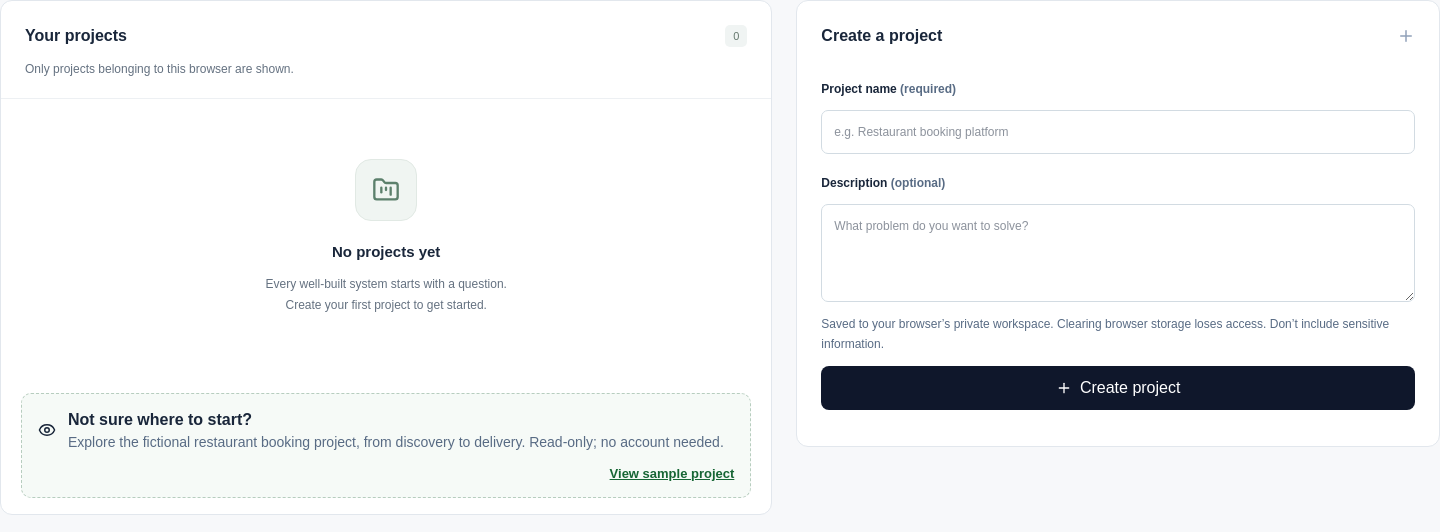
Test: projects › shows an empty workspace and creates a browser-owned project
Expected: the heading "No projects yet" is shown, [332,243,440,260]
Step 1. Type "Booking platform" into the field labelled "Project name (required)" → (1118,132), box [821,110,1415,154]
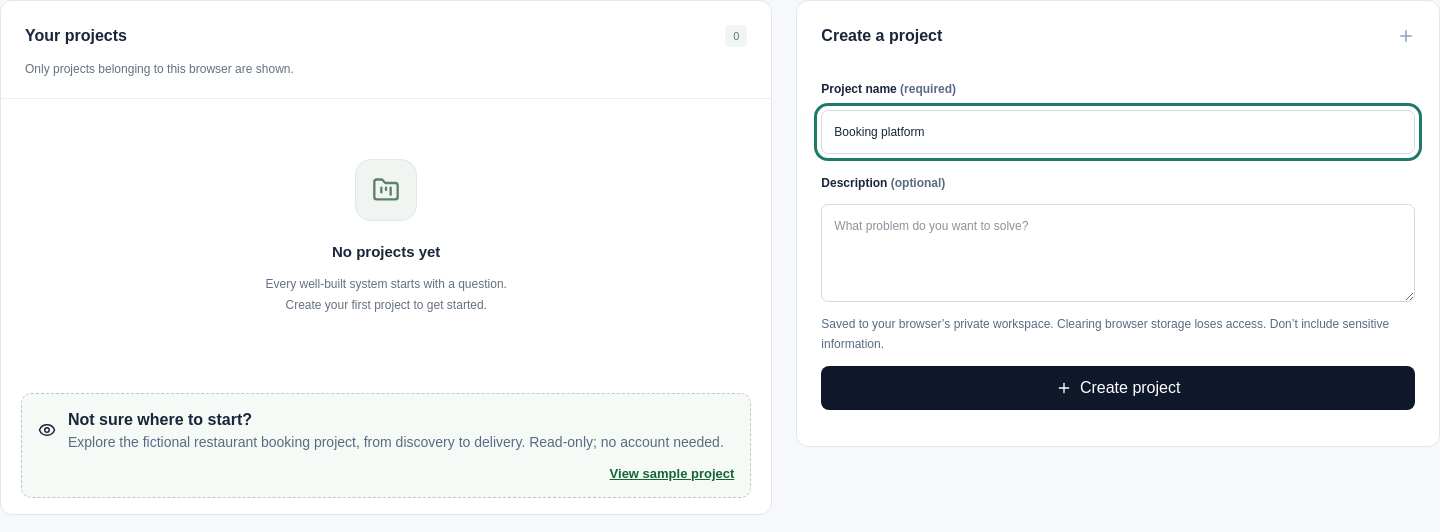
Step 2. Click the button "Create project" → (1118,388), box [821,366,1415,410]
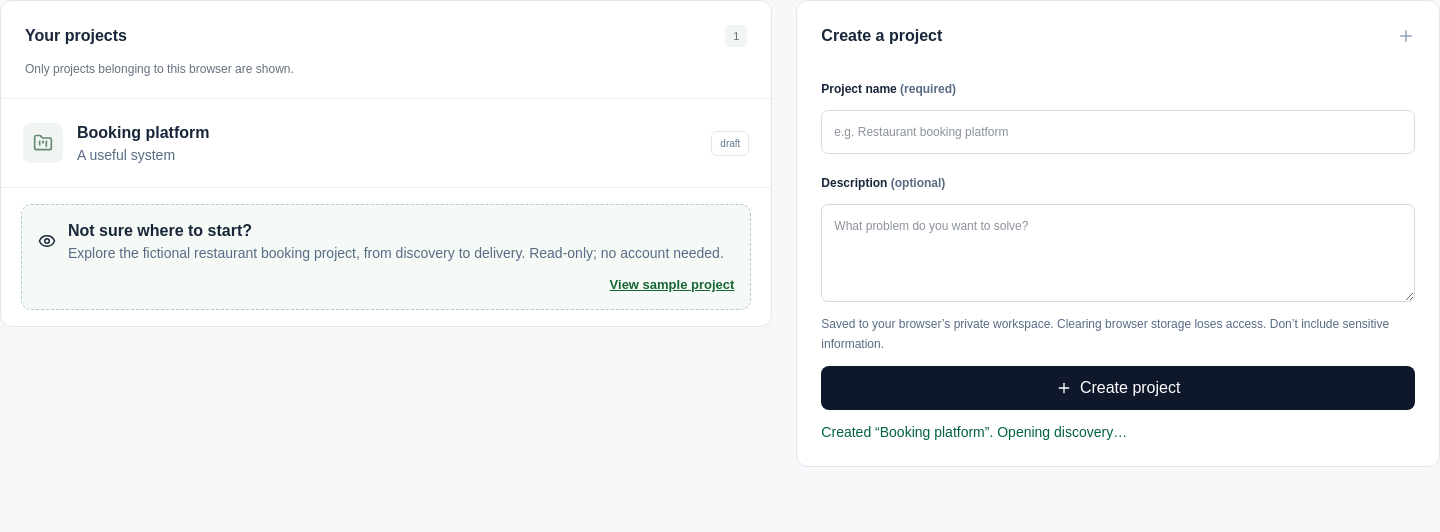
Now the heading "Booking platform" is shown, box [77,121,209,145]
Now the field labelled "Project name (required)" is empty, box [821,110,1415,154]
